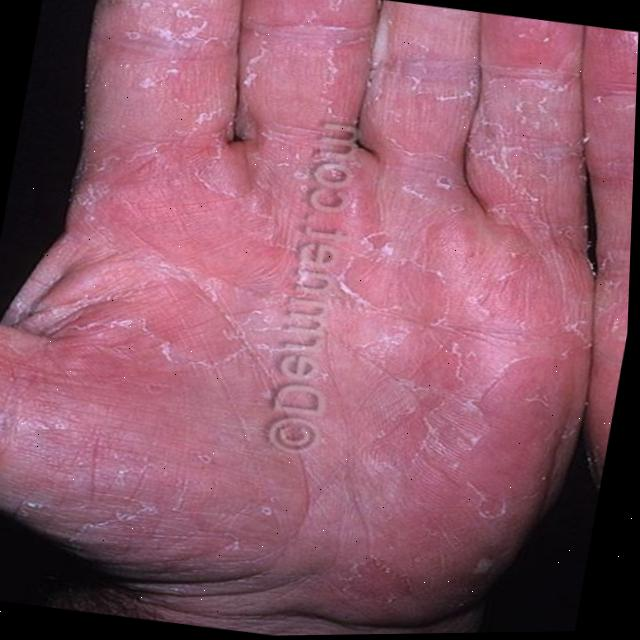Eczema: (7, 0, 633, 577)
